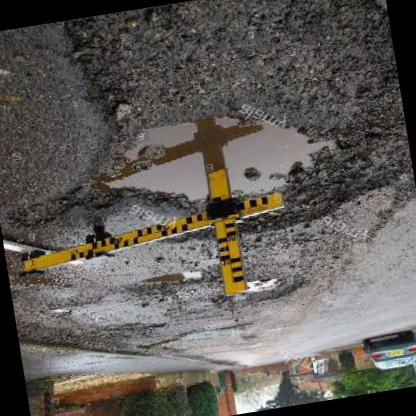pothole: (68, 42, 416, 264), (210, 270, 308, 316), (134, 267, 208, 295)
